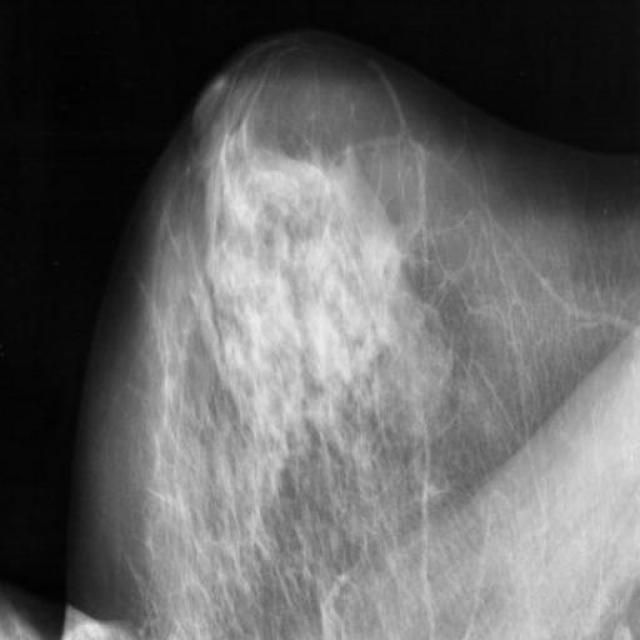cancer: (165, 106, 239, 192)
